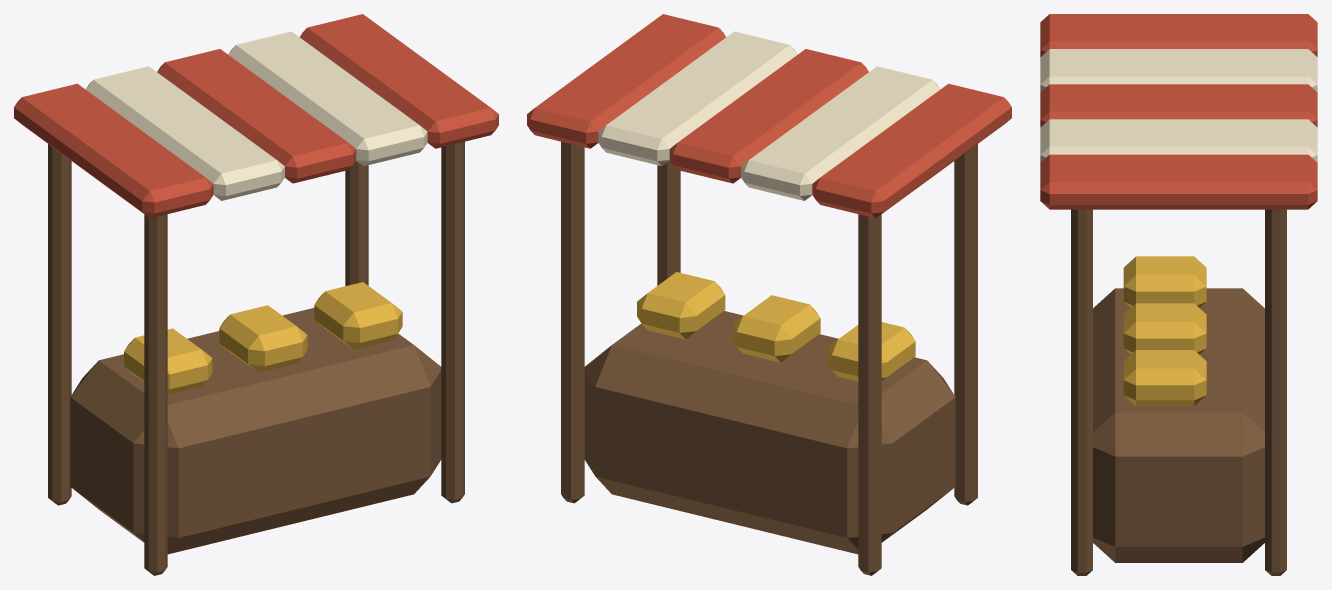
The model's file is ns-stall.glb.
3 views of the same model, side by side, from view 1: azimuth 30°, elevation 25°; view 2: azimuth 150°, elevation 25°; view 3: azimuth 270°, elevation 25° (orthographic).
Visible parts, largest first — view 1: Cube; view 2: Cube; view 3: Cube.
Boxes of the visible parts, x1=… form: Cube: x1=14, y1=14, x2=498, y2=575; Cube: x1=527, y1=14, x2=1011, y2=575; Cube: x1=1040, y1=14, x2=1317, y2=575.
Size of the model in its own units: 0.3 by 0.321 by 0.2.
